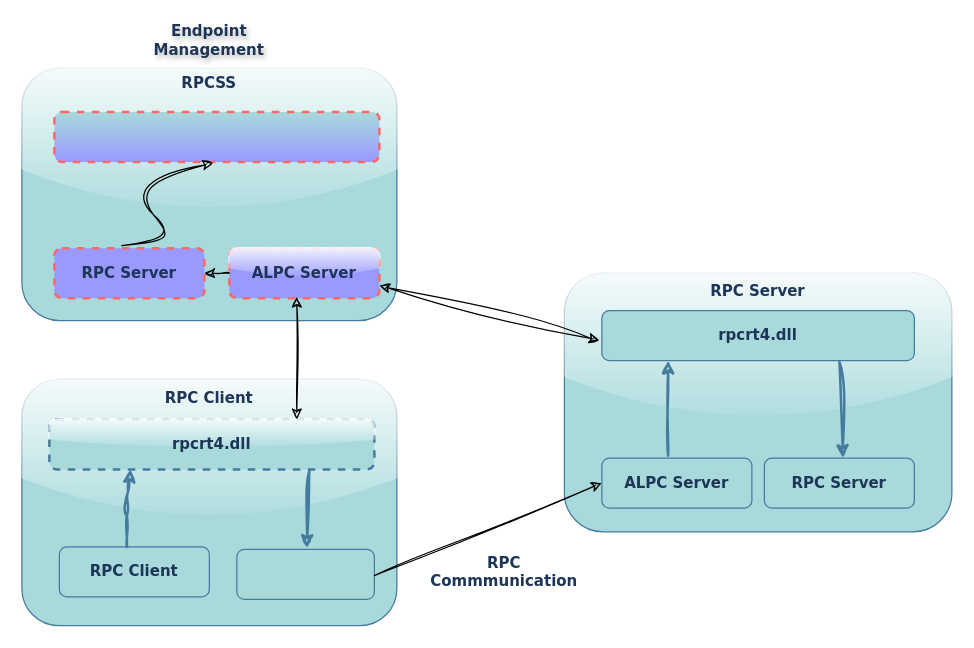
This 974x648 diagram has some shape labels left out. Here are the shapes that lost their labels. From the top down, the centre of each, then its label:
pixel 216 136: Endpoint Mapper
pixel 305 573: ALPC Client
